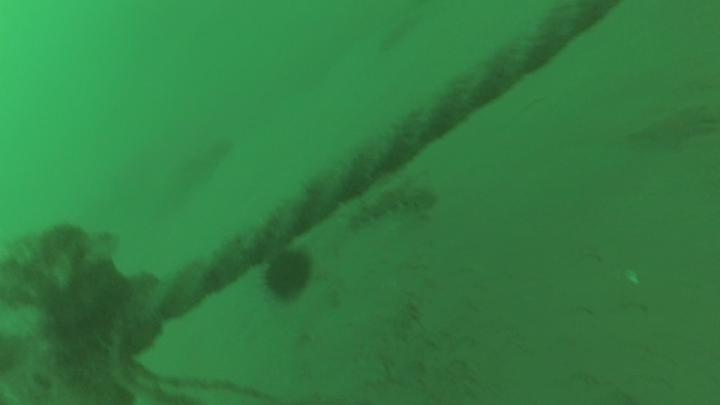echinus: (260, 242, 316, 302)
holothurian: (335, 178, 439, 234)
